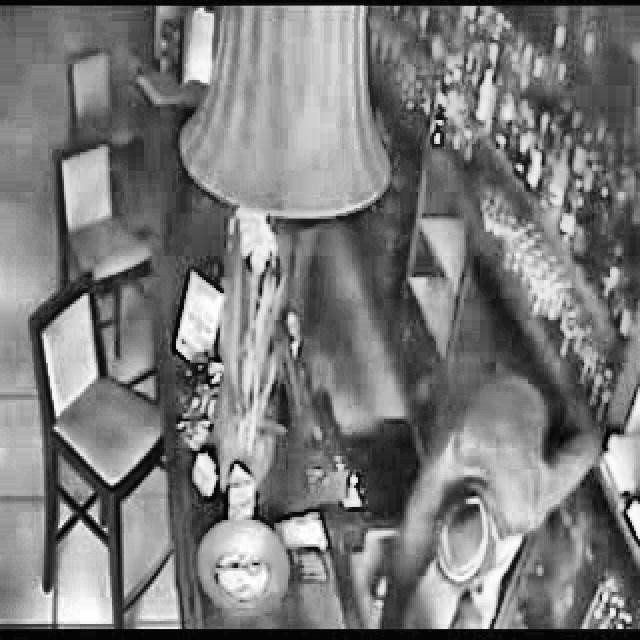burglary: (365, 352, 604, 628)
